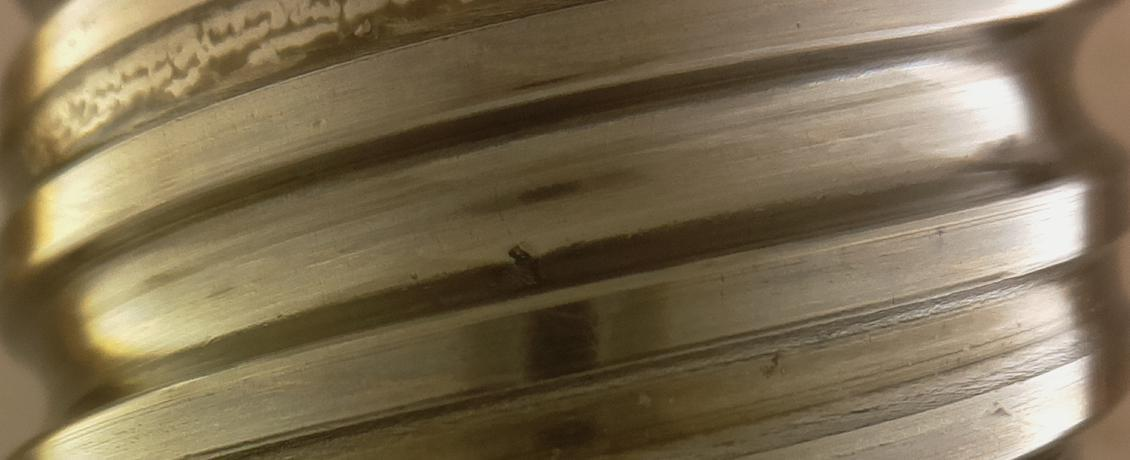pitting: (507, 243, 543, 288)
